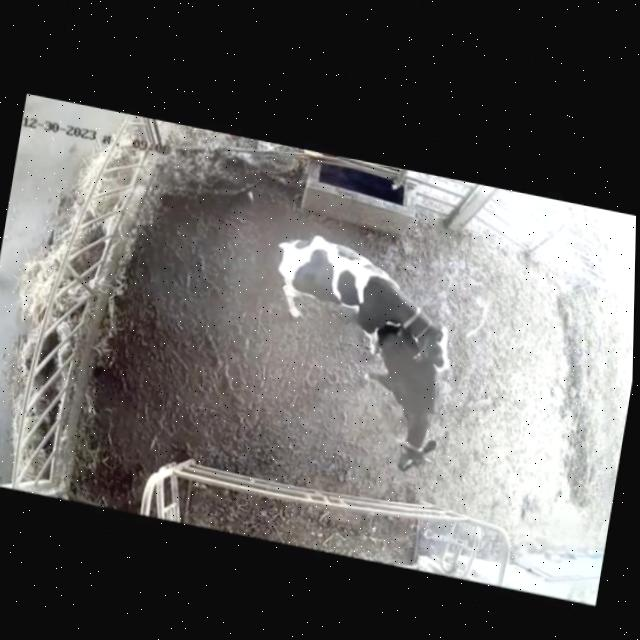ride: (248, 219, 485, 389)
stand: (342, 313, 464, 483)
